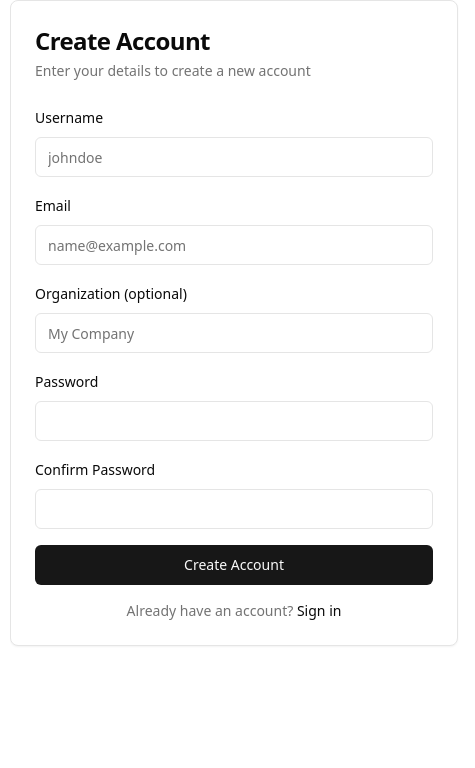
Test: RegisterPage › should validate username length
In the field labelled "Username": (234, 157) [35,137,433,177], type "ab"
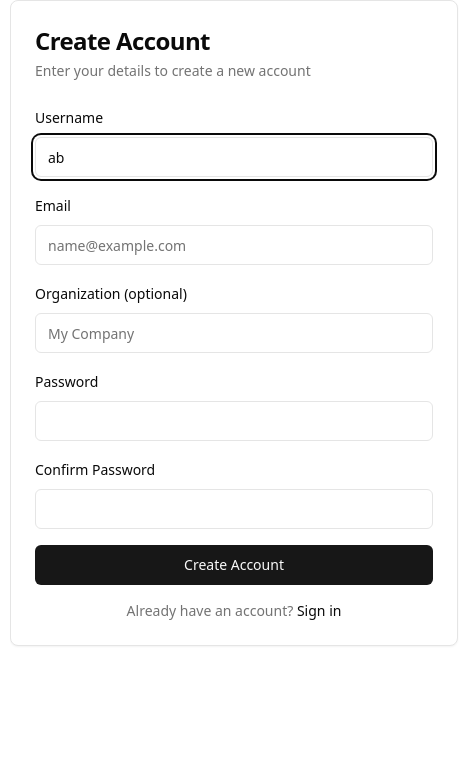
In the field labelled "Email": (234, 245) [35,225,433,265], type "test@test.com"
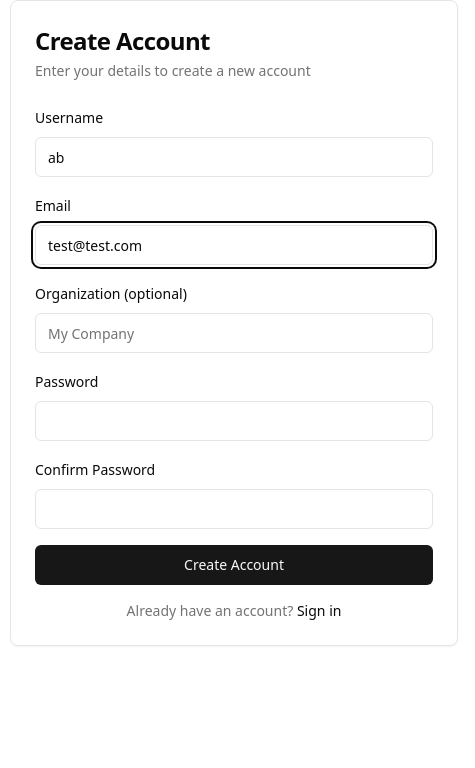
In the password field labelled "Password": (234, 421) [35,401,433,441], type "SecurePass123"
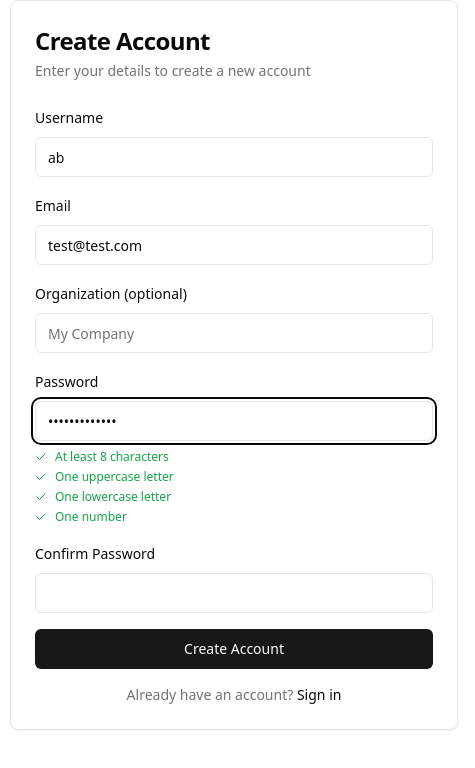
In the password field labelled "Confirm Password": (234, 593) [35,573,433,613], type "SecurePass123"
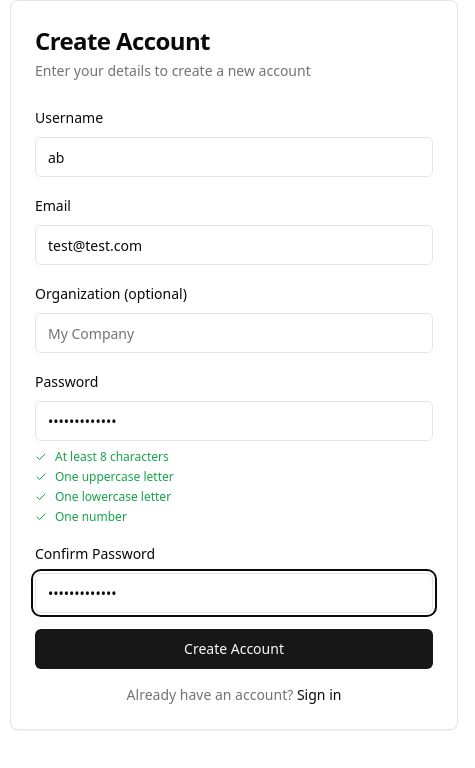
Click the button "Create Account": (234, 649) [35,629,433,669]
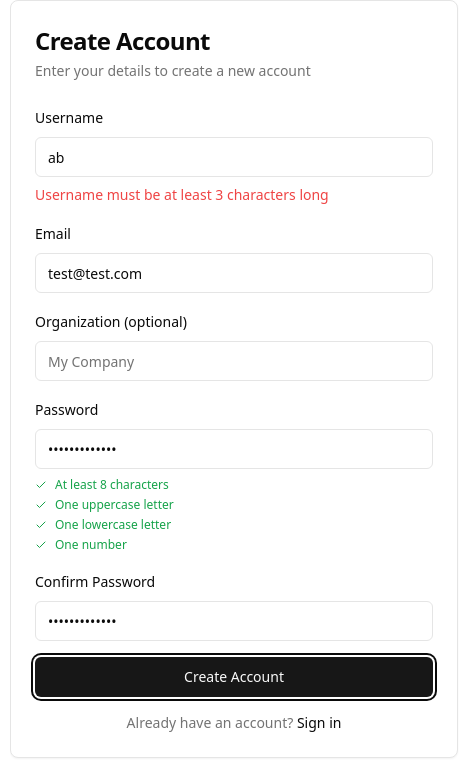
Check: the text "Username must be at least 3 characters long" is shown, box [35,185,329,204]
